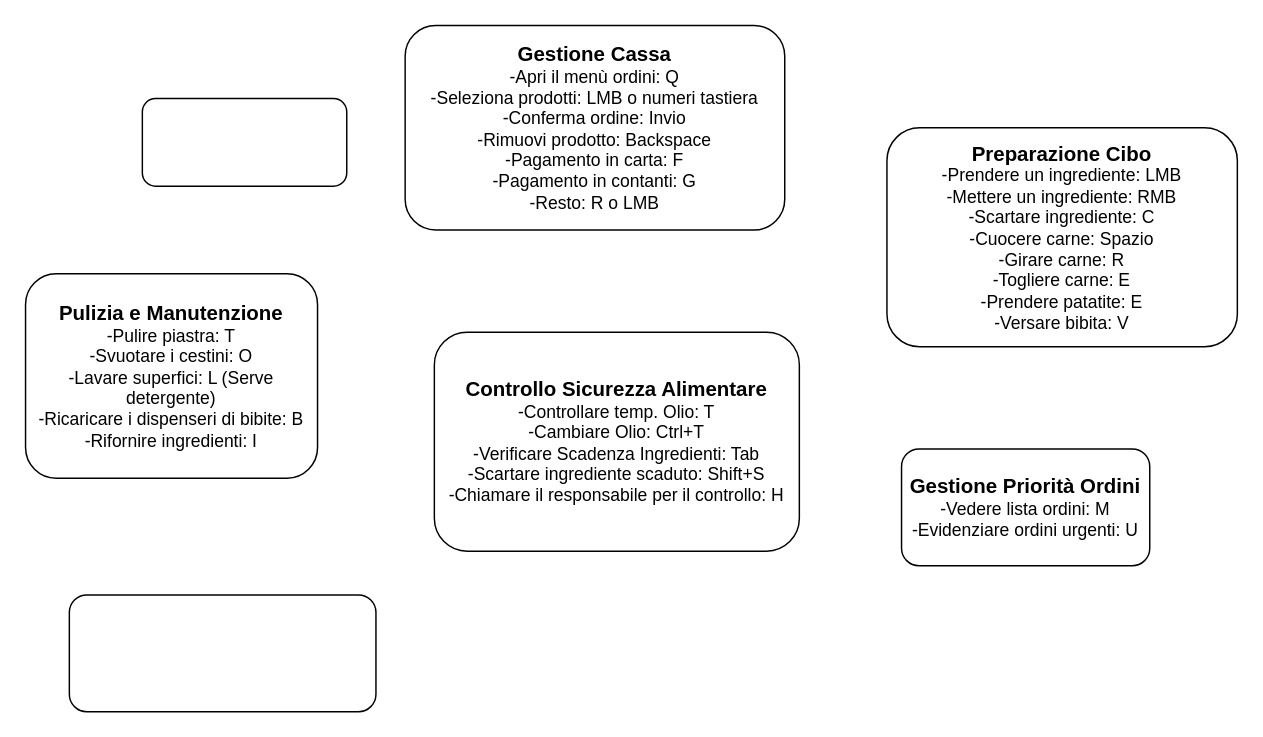
This 1263x737 diagram has some shape labels left out. Here are the shapes that lost their labels. From the top down, the box of each, then its label:
(141, 97, 347, 186): Movimento Tridimensionale: WASD
(68, 593, 376, 712): Comandi generali -Menù opzioni: Esc -Pausa gioco: P -Rivedere comandi: F1
